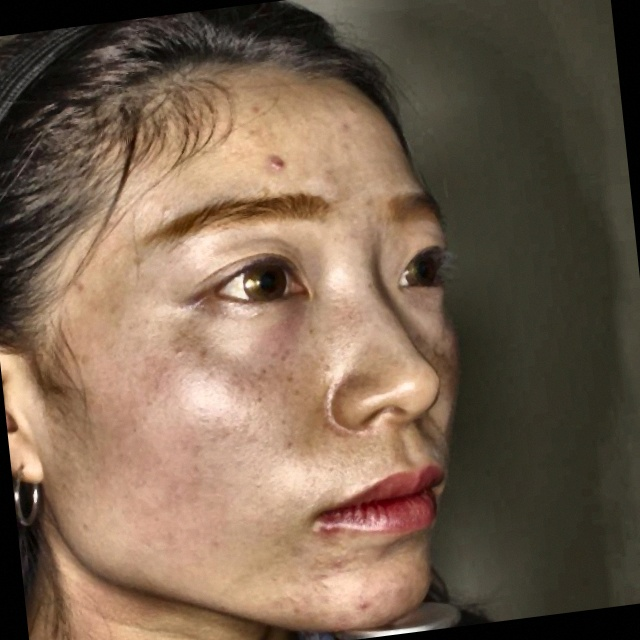comedone: (262, 148, 288, 172), (352, 596, 374, 618)
